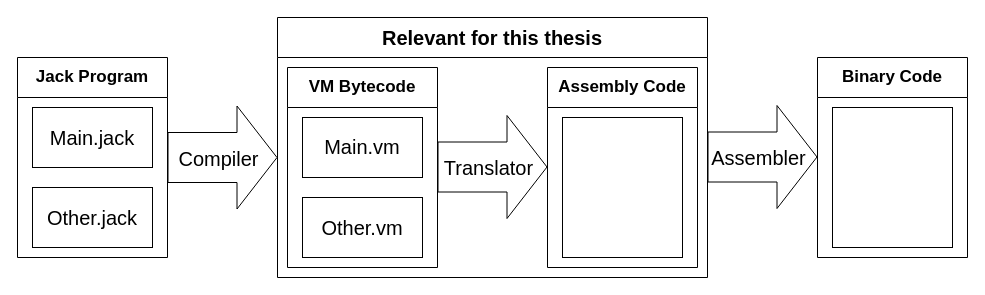
The diagram is 985 pixels wide and 295 high, and some of its shapes have lost their labels. Each missing label, with the centre of its shape:
Prog.asm: the point at 622,187
Prog.hack: the point at 892,177
